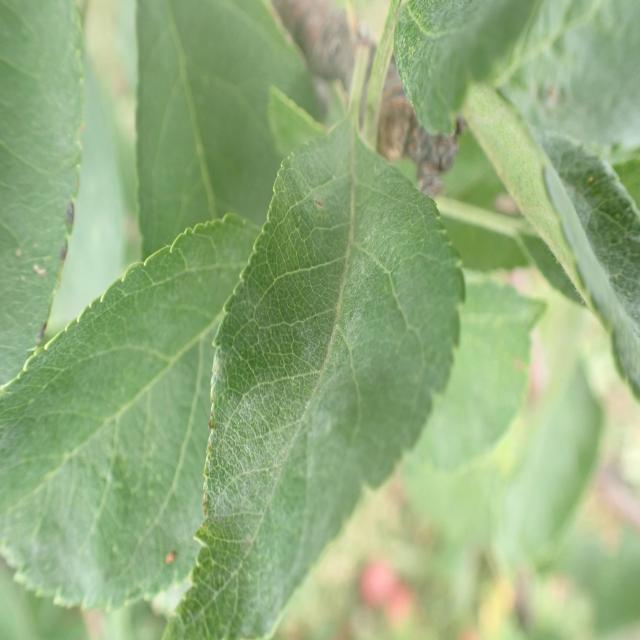Powdery_mildew: (207, 128, 450, 640)
